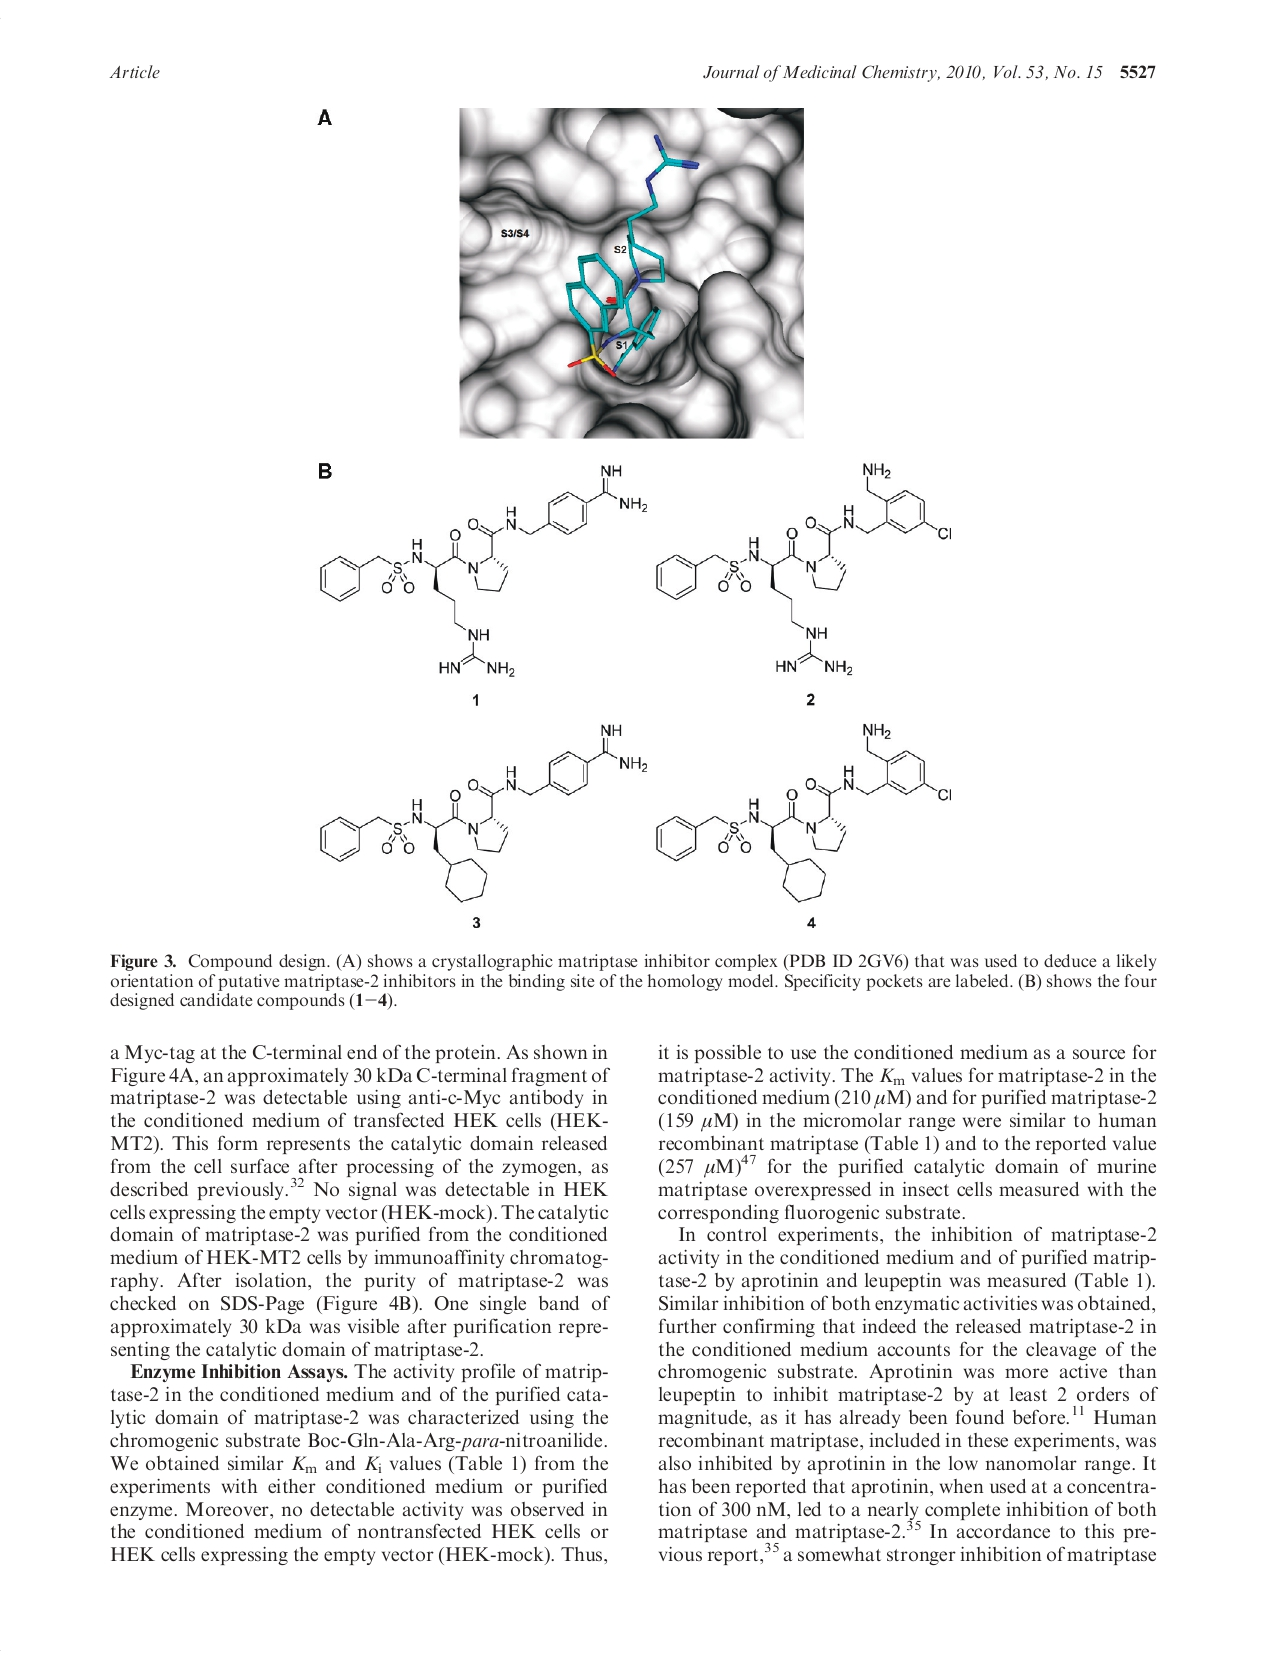exist_molecular: (318, 460, 652, 681), (652, 457, 956, 682), (316, 717, 646, 906), (652, 717, 951, 903)
